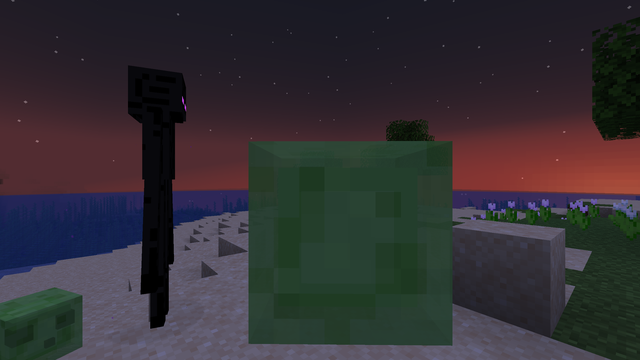endermens: (126, 52, 194, 340)
slimes: (238, 122, 453, 353), (2, 283, 74, 358)
